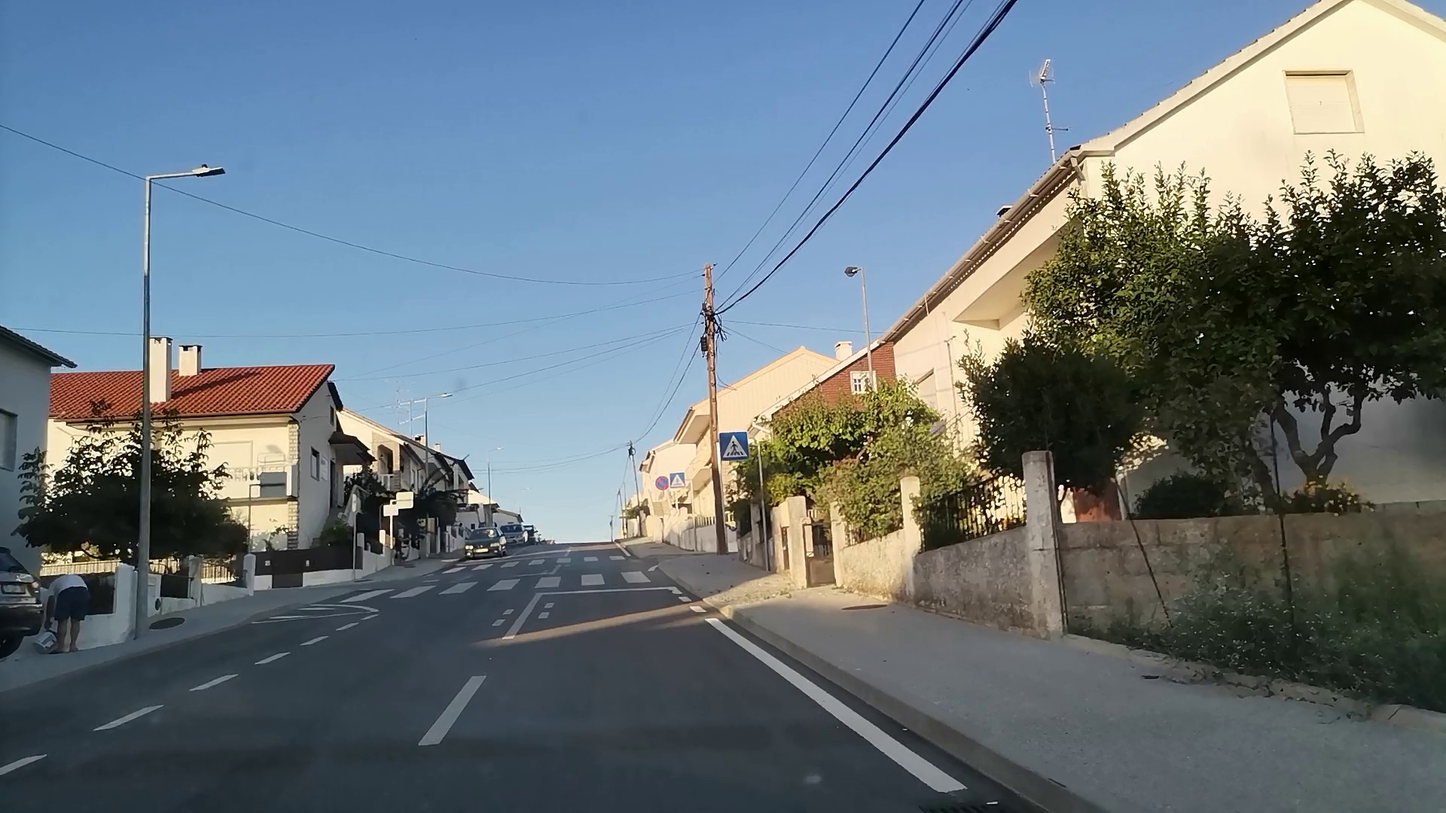Stairs: (338, 573, 661, 600)
